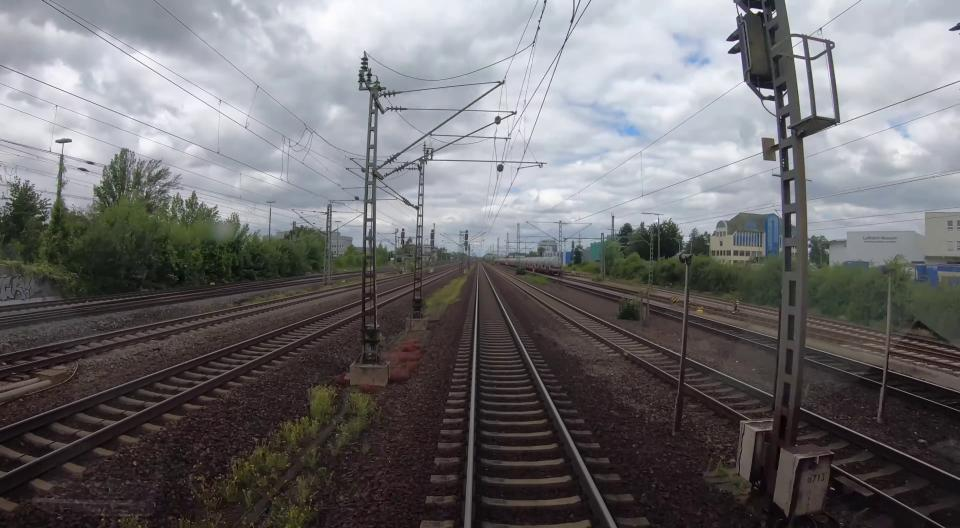Plant: (180, 385, 337, 528), (261, 468, 331, 528), (331, 392, 377, 453), (426, 274, 467, 314), (389, 339, 424, 383), (116, 514, 151, 528), (618, 298, 640, 320), (303, 445, 320, 469), (522, 274, 550, 285), (359, 385, 383, 394), (516, 267, 526, 275)
